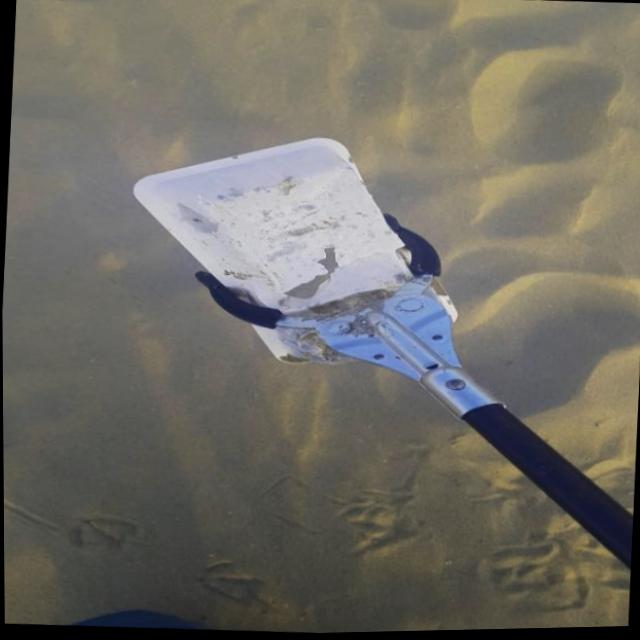Plastic: (119, 125, 472, 378)
